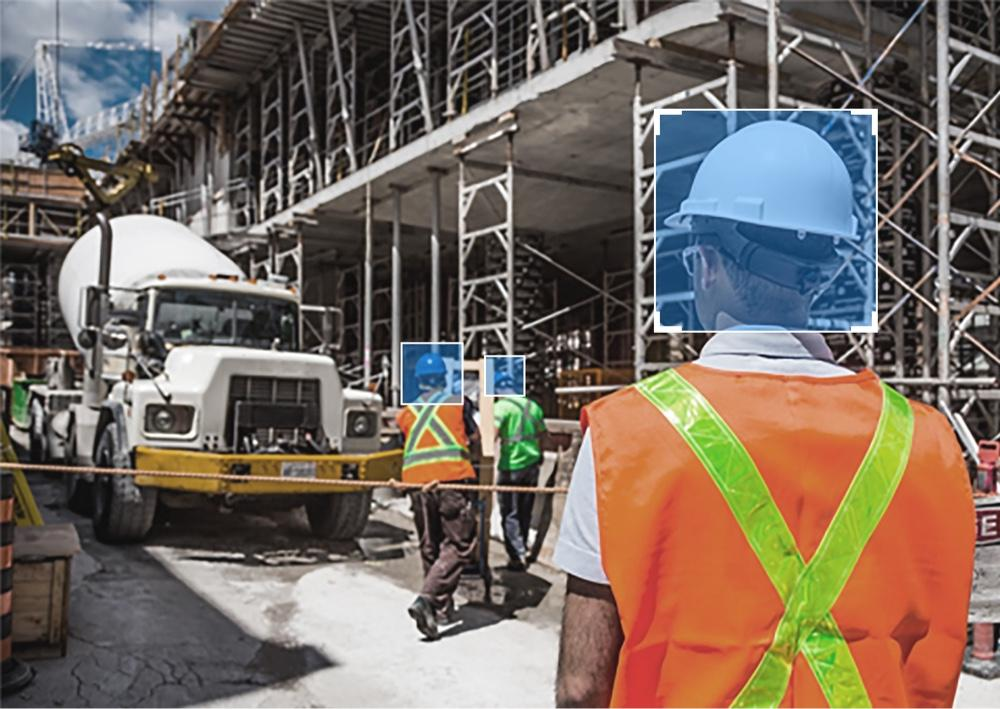helmet: (668, 115, 872, 248), (418, 354, 449, 379), (497, 372, 517, 388)
